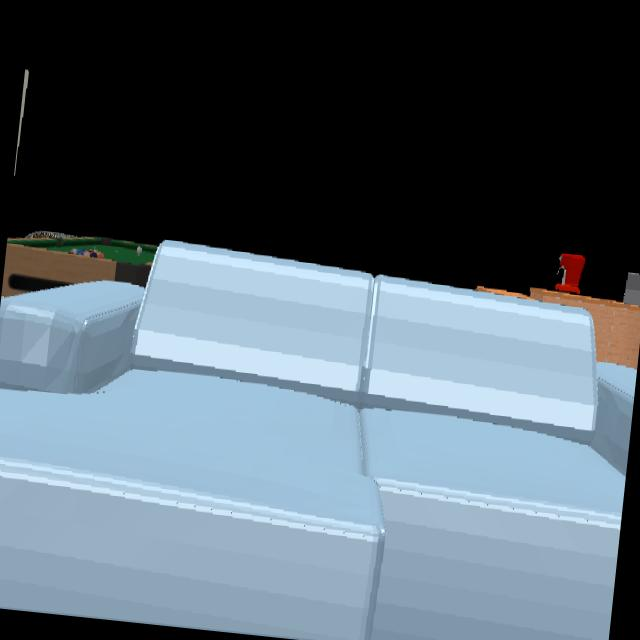sofa: (0, 240, 636, 640)
